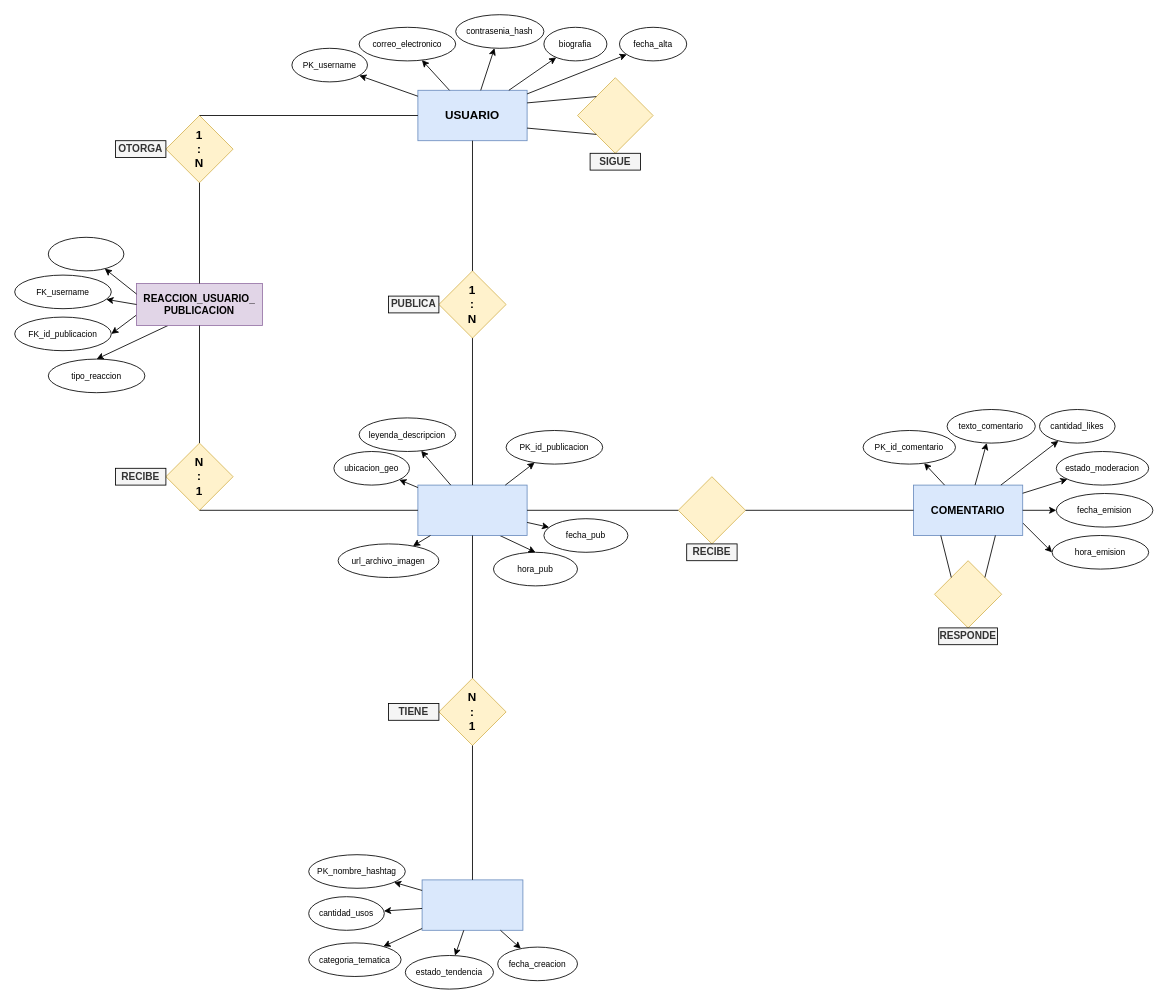
The diagram is 1168 pixels wide and 1004 high, and some of its shapes have lost their labels. The box of each missing label's shape, as (x1, y1, x2, y2) in pixels:
1 (padre) : N (hijo): (934, 560, 1002, 628)
1:N: (677, 476, 746, 544)
ETIQUETA: (421, 879, 523, 930)
N (seguidor) : M(seguido): (577, 77, 653, 153)
PK_reaccion: (47, 236, 124, 271)
PUBLICACION: (417, 484, 527, 536)
